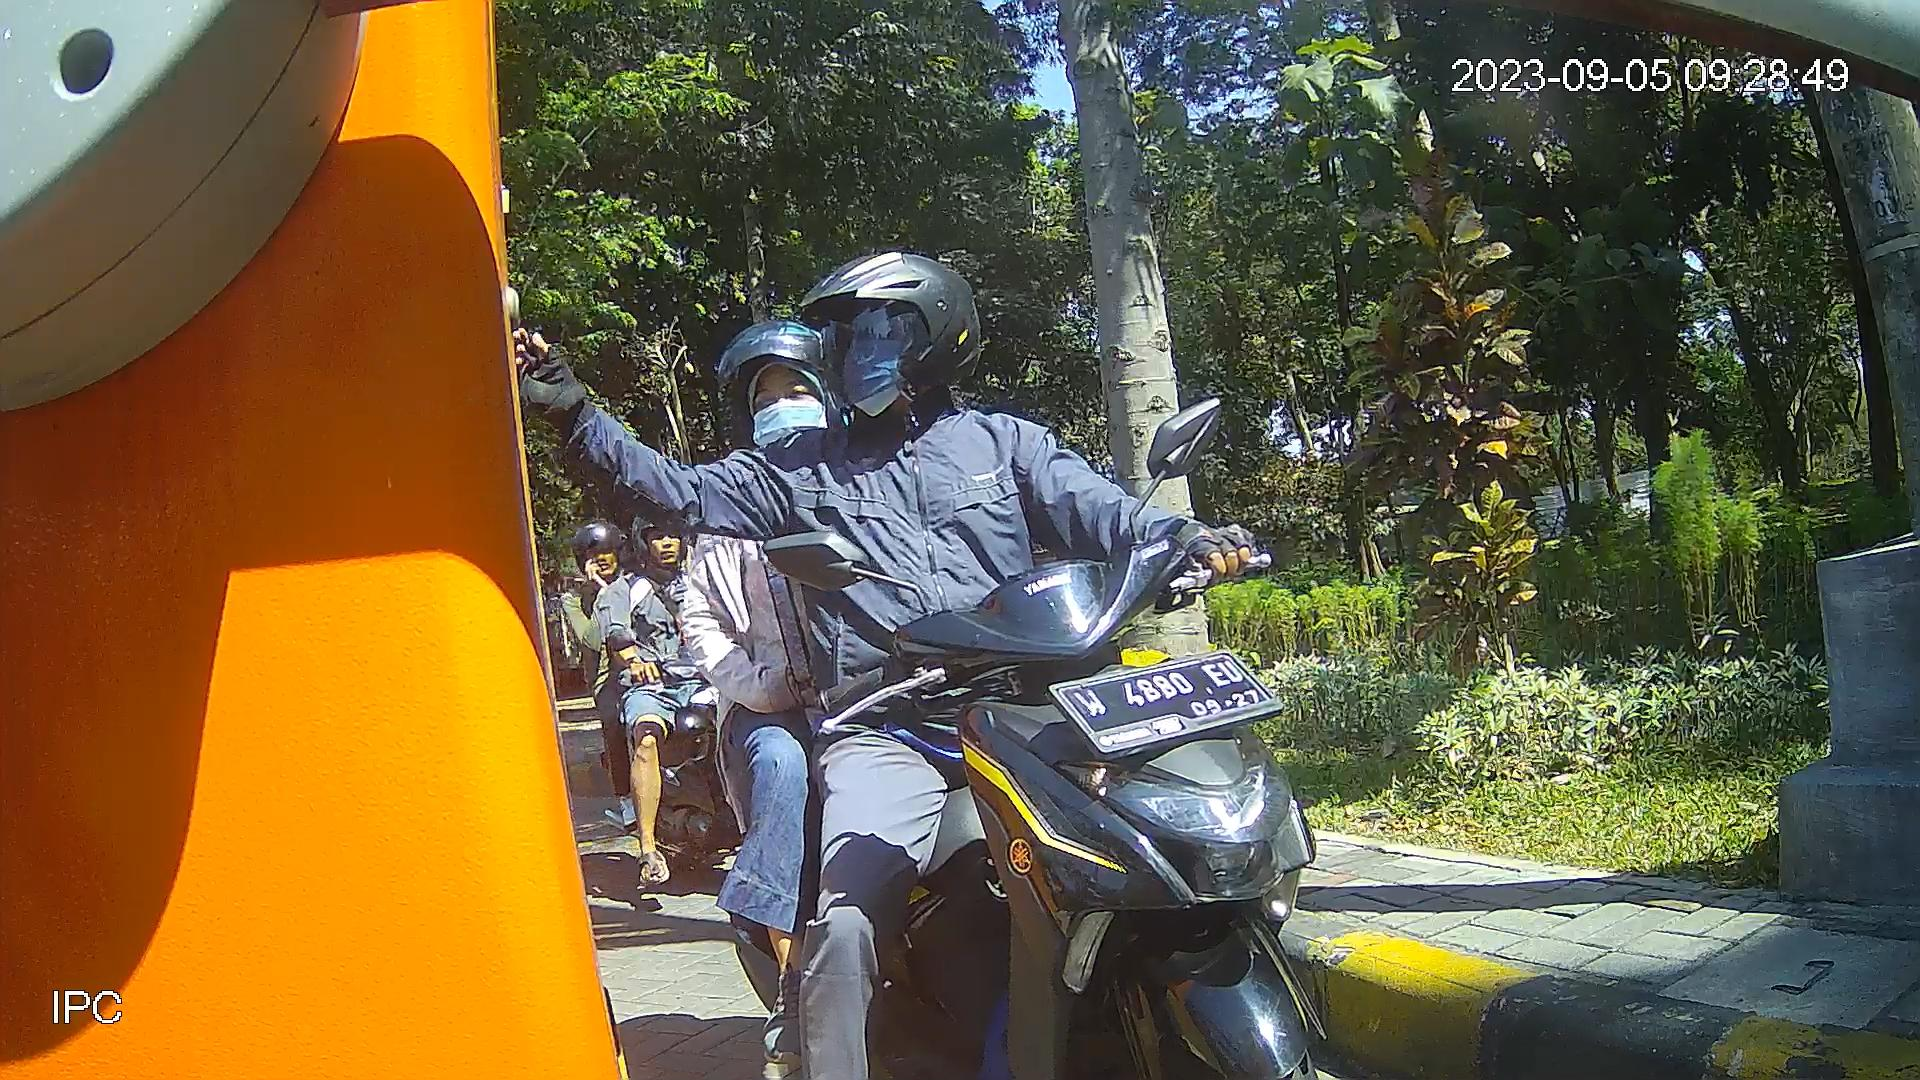plat: (1046, 653, 1283, 758)
